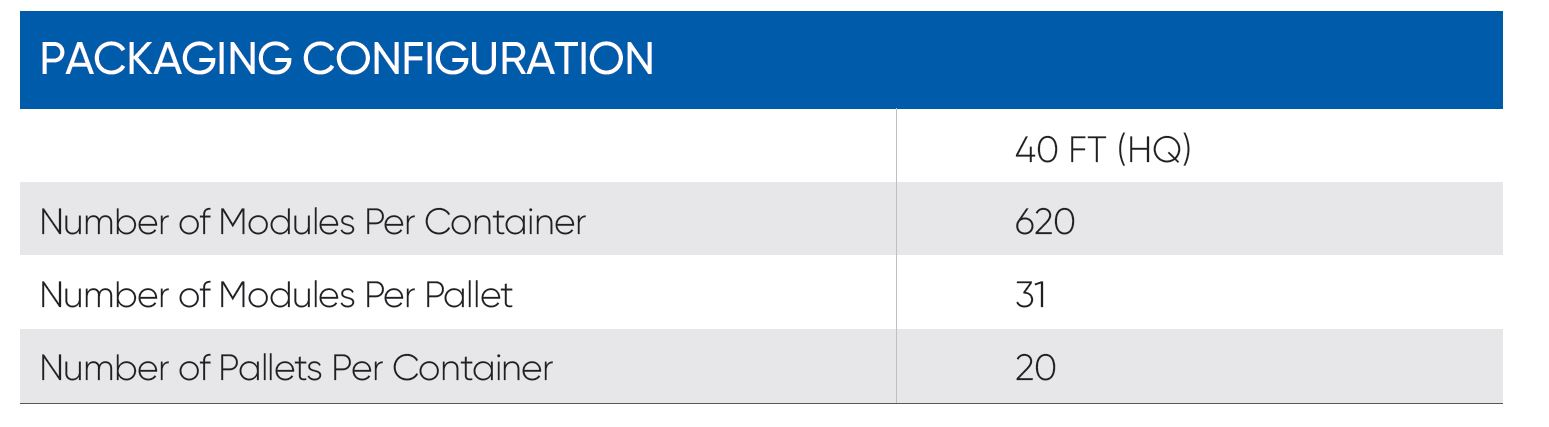table: (9, 4, 1520, 418)
table column: (26, 12, 900, 407), (898, 13, 1498, 403)
table name: (24, 11, 1502, 106)
table row: (20, 11, 1502, 101), (24, 335, 1498, 408), (20, 113, 1505, 185), (23, 186, 1501, 257), (20, 259, 1501, 329)
table row header: (25, 8, 901, 407)
table spanning cell: (21, 14, 1507, 109)
